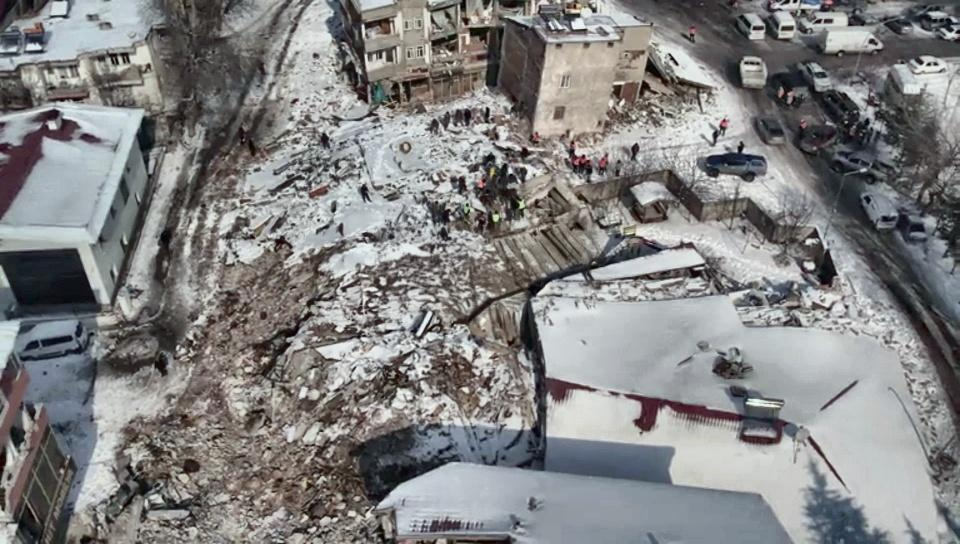kapali: (55, 231, 269, 542)
